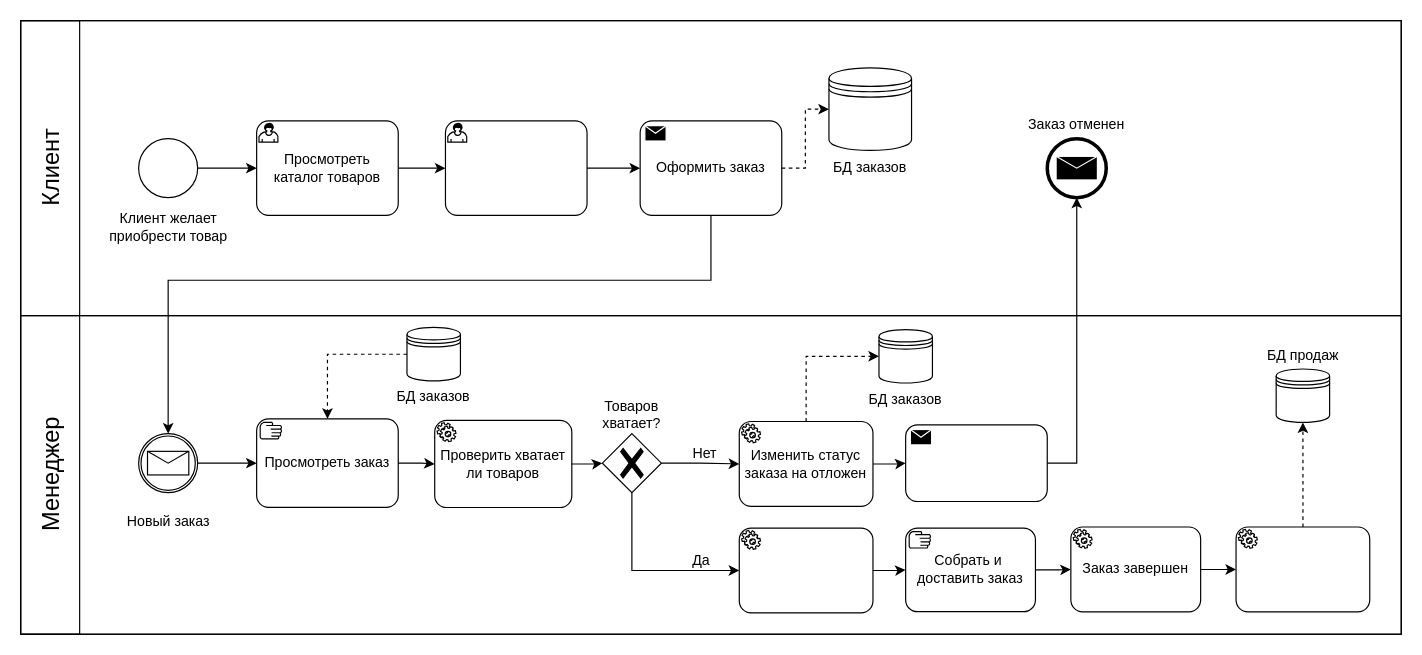
The diagram is 1422 pixels wide and 655 high, and some of its shapes have lost their labels. Here are the shapes that lost their labels. From the top down, the centre of each, then its label:
point 515,167: Выбрать товары
point 975,463: Уведомить клиента
point 805,570: Изменить статус заказа на "в работе"
point 1302,569: Создание данных о продаже
